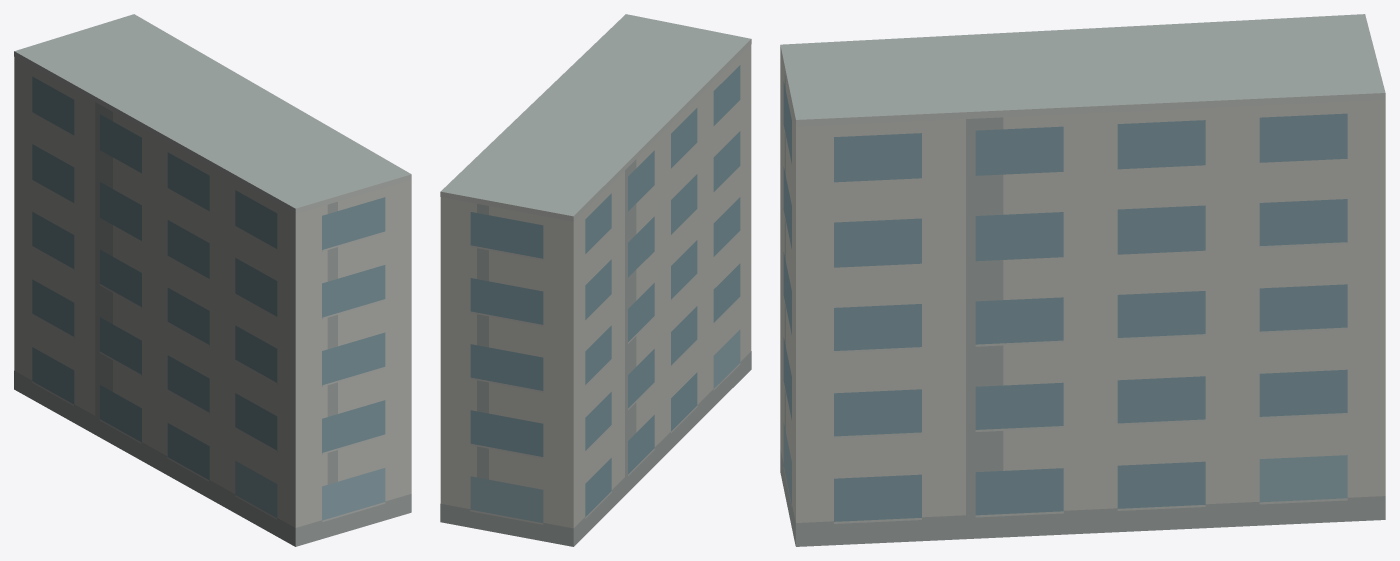
The model's file is survey-upis-32576138.glb.
The picture shows the model from 3 angles, left to right: view 1: azimuth 30°, elevation 25°; view 2: azimuth 150°, elevation 25°; view 3: azimuth 270°, elevation 25°; orthographic projection. The views are drawn at different scales.
Parts seen in each view (by area): view 1: survey-upis-32576138.tmp; view 2: survey-upis-32576138.tmp; view 3: survey-upis-32576138.tmp.
Boxes of the visible parts, bbox=[...] form: survey-upis-32576138.tmp: bbox=[14, 14, 411, 546]; survey-upis-32576138.tmp: bbox=[440, 14, 751, 546]; survey-upis-32576138.tmp: bbox=[780, 14, 1385, 546].
Size of the model in its own units: 8.02 by 15.05 by 19.35.
